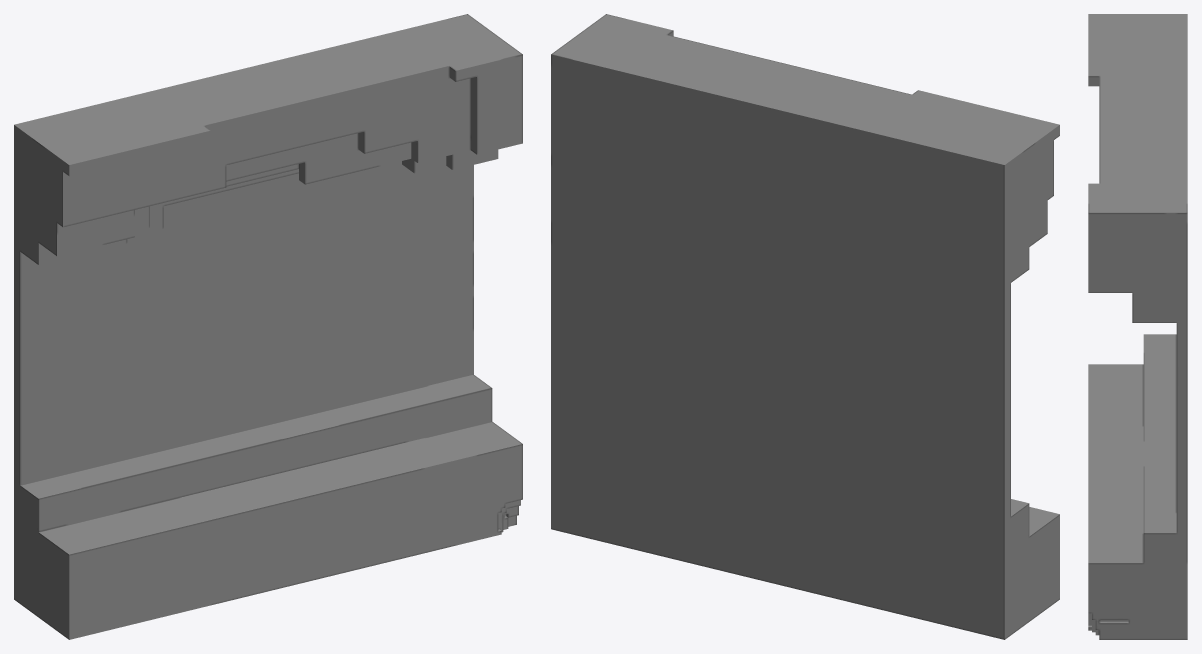
Rendered from WallEntranceLeft.fbx.
3 renders of one model, left to right at view 1: azimuth 30°, elevation 25°; view 2: azimuth 150°, elevation 25°; view 3: azimuth 270°, elevation 25°, orthographic. The views are drawn at different scales.
Parts seen in each view (by area): view 1: WallEntranceLeft.001; view 2: WallEntranceLeft.001; view 3: WallEntranceLeft.001.
Part boxes in pixels (<box>): WallEntranceLeft.001: <box>14,14,522,639</box>; WallEntranceLeft.001: <box>551,14,1059,639</box>; WallEntranceLeft.001: <box>1088,14,1187,639</box>.
Size of the model in its own units: 12.8 by 12.8 by 2.7.
1 material, 1 textured.
